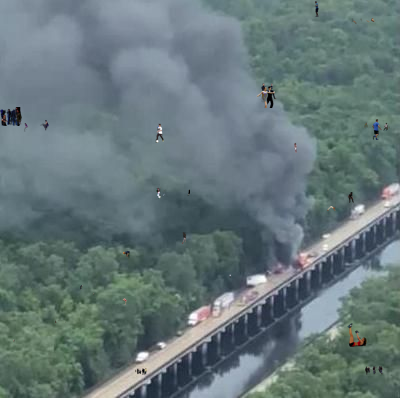Human: (347, 323, 369, 348), (364, 119, 390, 140), (256, 83, 277, 108), (156, 186, 190, 199), (0, 107, 22, 126), (24, 120, 53, 132), (351, 18, 382, 27), (365, 366, 385, 375), (155, 123, 164, 143), (313, 1, 319, 17), (135, 368, 147, 375), (121, 298, 131, 305), (348, 192, 354, 203), (123, 251, 130, 259), (182, 232, 186, 245), (327, 206, 336, 211), (55, 319, 66, 323), (294, 142, 297, 153), (80, 285, 83, 290), (13, 339, 15, 344), (229, 274, 231, 279), (93, 292, 95, 297)
